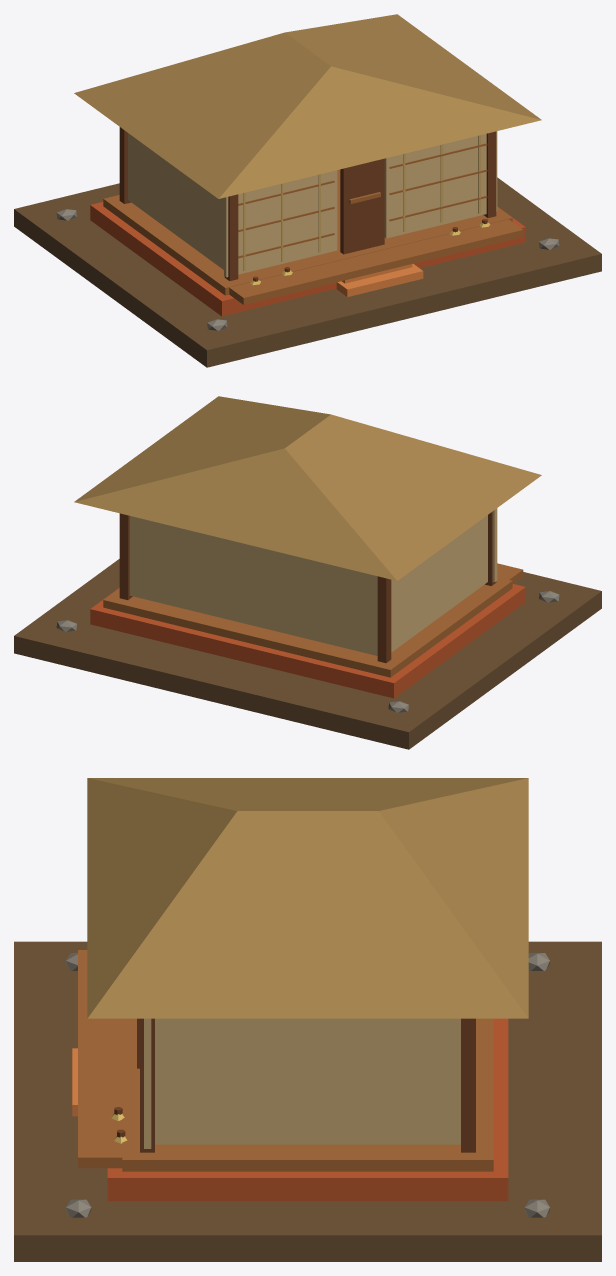
Rendered from harvest_storage.glb.
3 views of the same model, one above another, from view 1: azimuth 30°, elevation 25°; view 2: azimuth 150°, elevation 25°; view 3: azimuth 270°, elevation 25° (orthographic). The views are drawn at different scales.
Visible parts, largest first — view 1: HarvestStoreRoof, Building_Base, HarvestStoreFrontPanel, HarvestStoreFrontPanel.001, HarvestStoreSideWall, HarvestStorePorch, HarvestStoreFloor, HarvestStorePlatform, HarvestStoreDoor, BrickStep, HarvestStorePost, HarvestStorePost.002 (+1 smaller); view 2: HarvestStoreRoof, Building_Base, HarvestStoreRearPanel, HarvestStorePlatform, HarvestStoreFloor, HarvestStoreSideWall, HarvestStorePost.001, HarvestStorePost.003; view 3: HarvestStoreRoof, Building_Base, HarvestStoreSideWall.001, HarvestStorePlatform, HarvestStoreFloor, HarvestStorePorch, HarvestStorePost.003, HarvestStorePost.002, HarvestStoreFrontPanel.001.
Boxes of the visible parts, <box> form: HarvestStoreRoof: <box>74,14,541,198</box>; Building_Base: <box>14,177,601,367</box>; HarvestStoreFrontPanel: <box>224,170,337,277</box>; HarvestStoreFrontPanel.001: <box>384,131,497,238</box>; HarvestStoreSideWall: <box>128,133,223,269</box>; HarvestStorePorch: <box>229,219,523,304</box>; HarvestStoreFloor: <box>103,169,512,295</box>; HarvestStorePlatform: <box>90,202,525,316</box>; HarvestStoreDoor: <box>340,158,384,254</box>; BrickStep: <box>336,264,423,296</box>; HarvestStorePost: <box>224,194,238,280</box>; HarvestStorePost.002: <box>483,131,496,217</box>; HarvestStoreRoof: <box>74,396,541,580</box>; Building_Base: <box>14,559,601,749</box>; HarvestStoreRearPanel: <box>129,516,377,655</box>; HarvestStorePlatform: <box>90,584,525,698</box>; HarvestStoreFloor: <box>103,577,512,677</box>; HarvestStoreSideWall: <box>391,515,487,652</box>; HarvestStorePost.001: <box>377,576,391,662</box>; HarvestStorePost.003: <box>119,513,132,599</box>; HarvestStoreRoof: <box>87,778,528,1018</box>; Building_Base: <box>14,941,601,1261</box>; HarvestStoreSideWall.001: <box>155,1018,460,1144</box>; HarvestStorePlatform: <box>107,1018,508,1201</box>; HarvestStoreFloor: <box>122,1018,493,1171</box>; HarvestStorePorch: <box>78,950,122,1168</box>; HarvestStorePost.003: <box>461,1018,475,1152</box>; HarvestStorePost.002: <box>140,1018,154,1152</box>; HarvestStoreFrontPanel.001: <box>144,1018,151,1148</box>.
Size of the model in its own units: 13 by 6.27 by 11.
